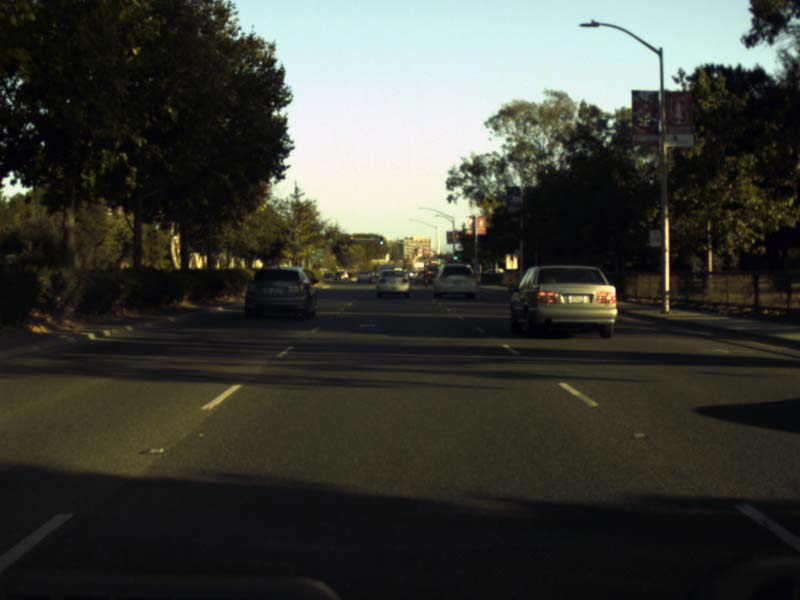Green: (453, 253, 457, 261), (379, 237, 383, 244), (437, 255, 440, 261)
Yellow: (350, 235, 352, 241)
